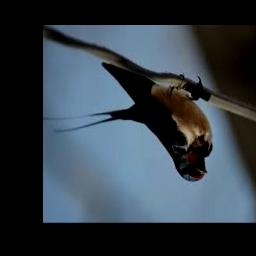Swallow: (43, 62, 212, 183)
